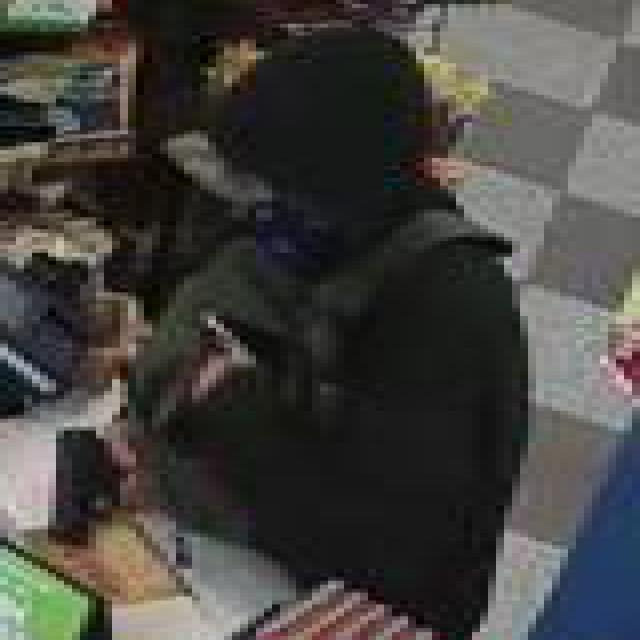Gun: (48, 414, 152, 550)
